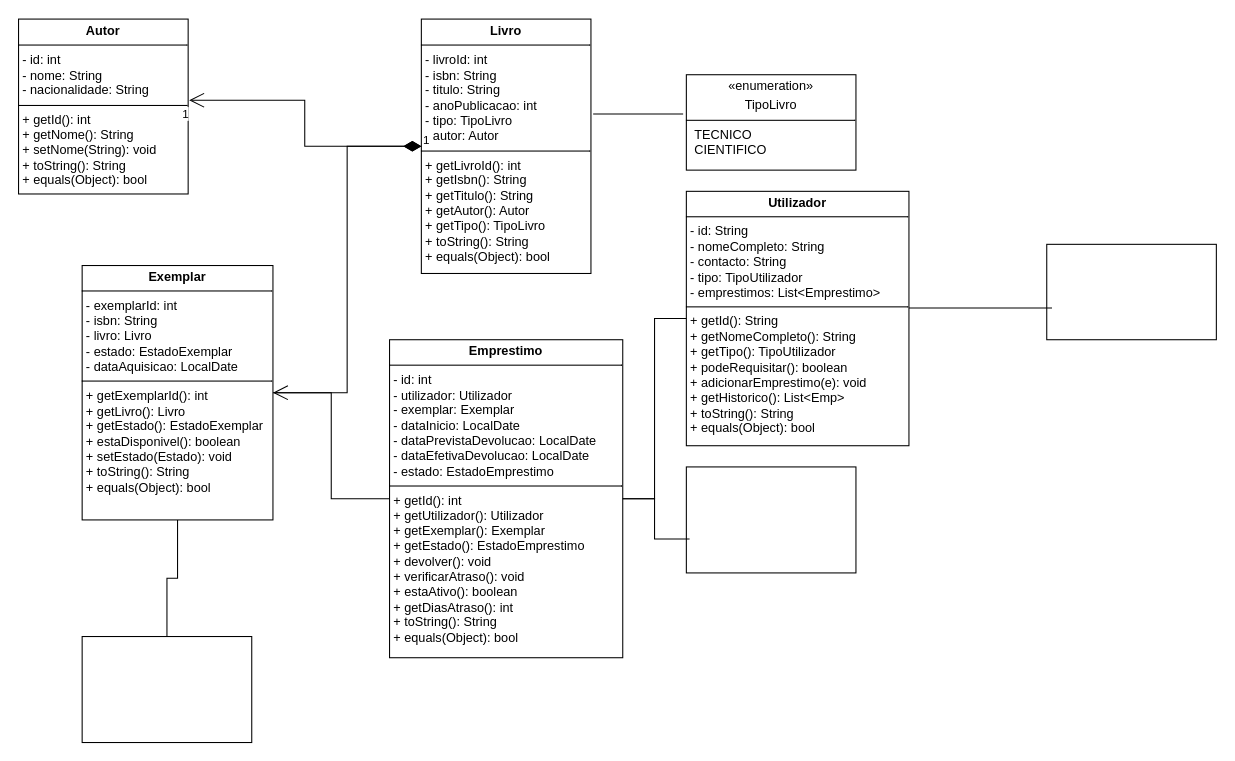
Image size: 1235x761. Some labels were removed from this diagram. The shapes that lost their labels are listed below. From the top down, each one's box as (x1, y1, x2, y2) in pixels, then its label:
(1046, 243, 1216, 340): «enumeration» TipoUtilizador ESTUDANTE DOCENTE
(685, 466, 856, 573): «enumeration» EstadoEmprestimo ATIVO DEVOLVIDO ATRASADO
(81, 635, 252, 743): «enumeration» EstadoExemplar DISPONIVEL EMPRESTADO PERDIDO
